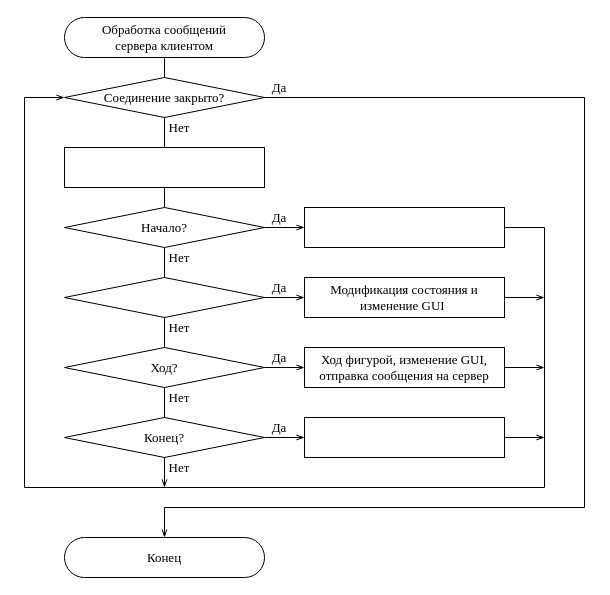
This 610x595 diagram has some shape labels left out. The box of each missing label's shape, as (x1, y1, x2, y2) in pixels:
Изменение GUI: (304, 416, 504, 458)
Модификация состояния: (304, 206, 504, 248)
Получение сообщения от сервера: (64, 146, 264, 188)
Состыковка?: (64, 276, 264, 318)
